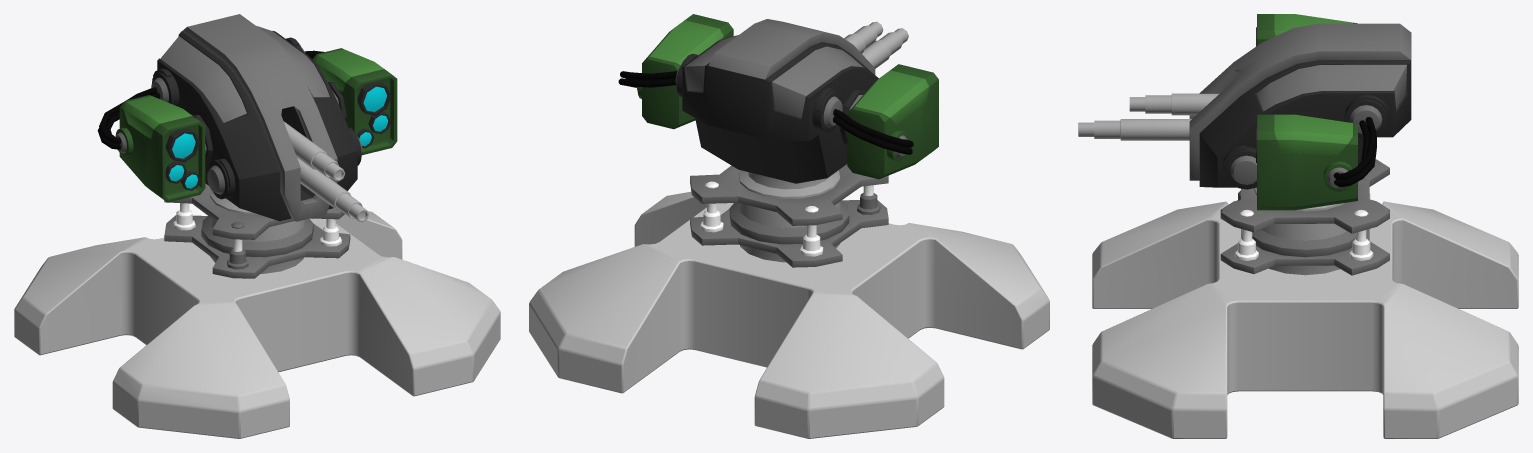
Rendered from Turette_low.fbx.
The picture shows the model from 3 angles, left to right: view 1: azimuth 30°, elevation 25°; view 2: azimuth 150°, elevation 25°; view 3: azimuth 270°, elevation 25°; orthographic projection. The views are drawn at different scales.
Visible parts, largest first — view 1: Tower, Base; view 2: Tower, Base; view 3: Tower, Base.
Part boxes in pixels (<box>): Tower: <box>14,211,500,438</box>; Base: <box>97,14,397,278</box>; Tower: <box>529,191,1049,438</box>; Base: <box>618,14,938,267</box>; Tower: <box>1092,201,1518,438</box>; Base: <box>1078,14,1411,275</box>.
Bounding box in the file's own units: 451 × 339 × 440.
